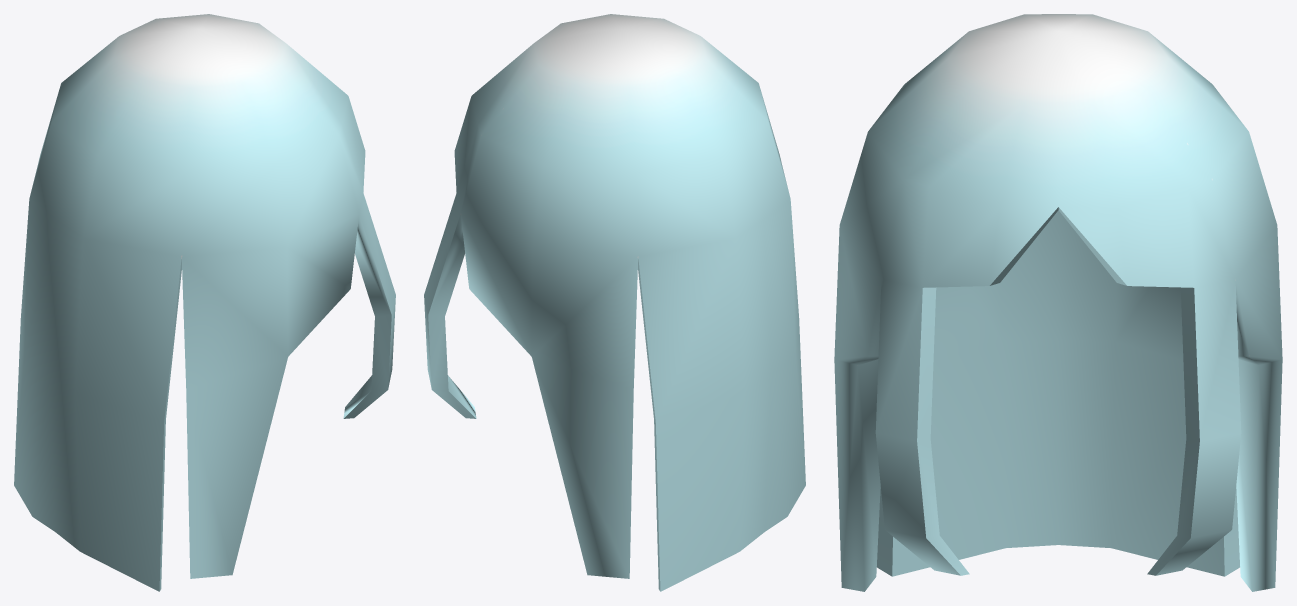
File: FHair_C1.fbx
3 views of the same model, side by side, from view 1: azimuth 30°, elevation 25°; view 2: azimuth 150°, elevation 25°; view 3: azimuth 270°, elevation 25° (orthographic). The views are drawn at different scales.
Parts seen in each view (by area): view 1: Sphere.019; view 2: Sphere.019; view 3: Sphere.019.
Part boxes in pixels (x1,y1,x2,y2): Sphere.019: [14, 14, 395, 591]; Sphere.019: [424, 14, 805, 591]; Sphere.019: [834, 14, 1282, 591].
Size of the model in its own units: 3.4 by 5.42 by 3.62.
